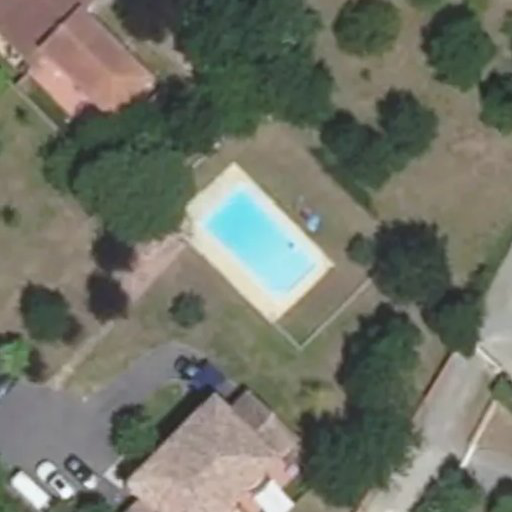pool: (196, 222, 315, 261)
